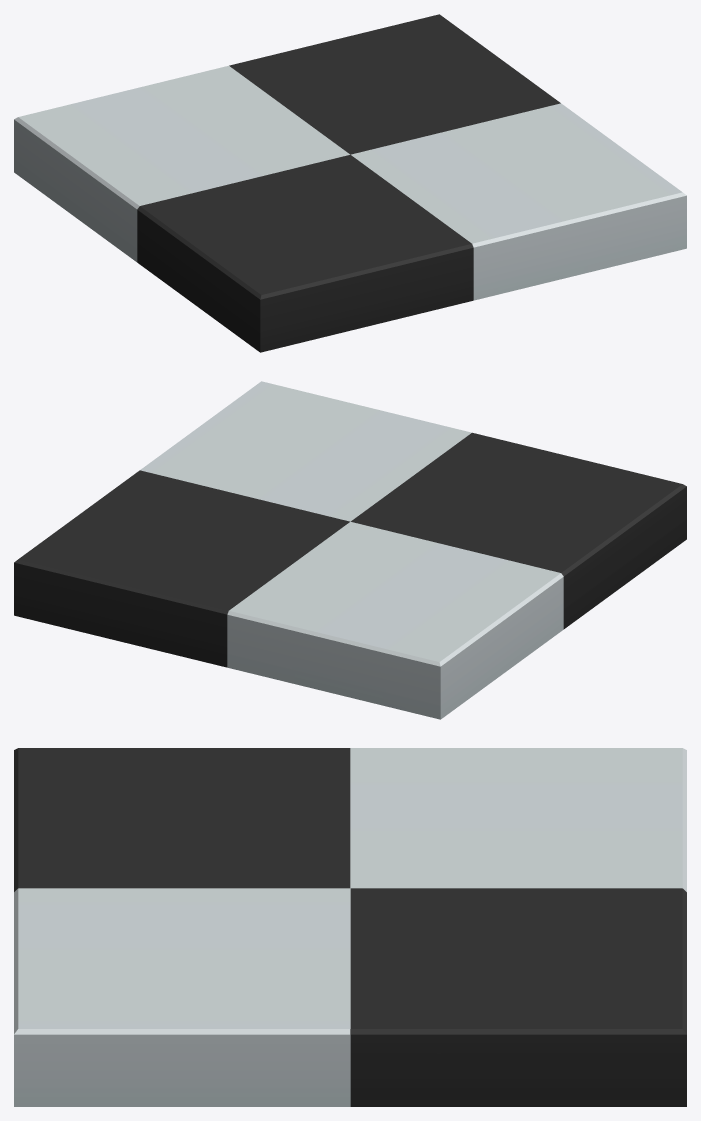
Rendered from floor-kitchen.glb.
3 views of the same model, one above another, from view 1: azimuth 30°, elevation 25°; view 2: azimuth 150°, elevation 25°; view 3: azimuth 270°, elevation 25° (orthographic). The views are drawn at different scales.
Parts seen in each view (by area): view 1: floor_kitchen; view 2: floor_kitchen; view 3: floor_kitchen.
Part boxes in pixels (<box>): floor_kitchen: <box>14,14,686,352</box>; floor_kitchen: <box>14,381,686,719</box>; floor_kitchen: <box>14,748,686,1106</box>.
Size of the model in its own units: 4 by 0.5 by 4.
1 material, 1 textured.
